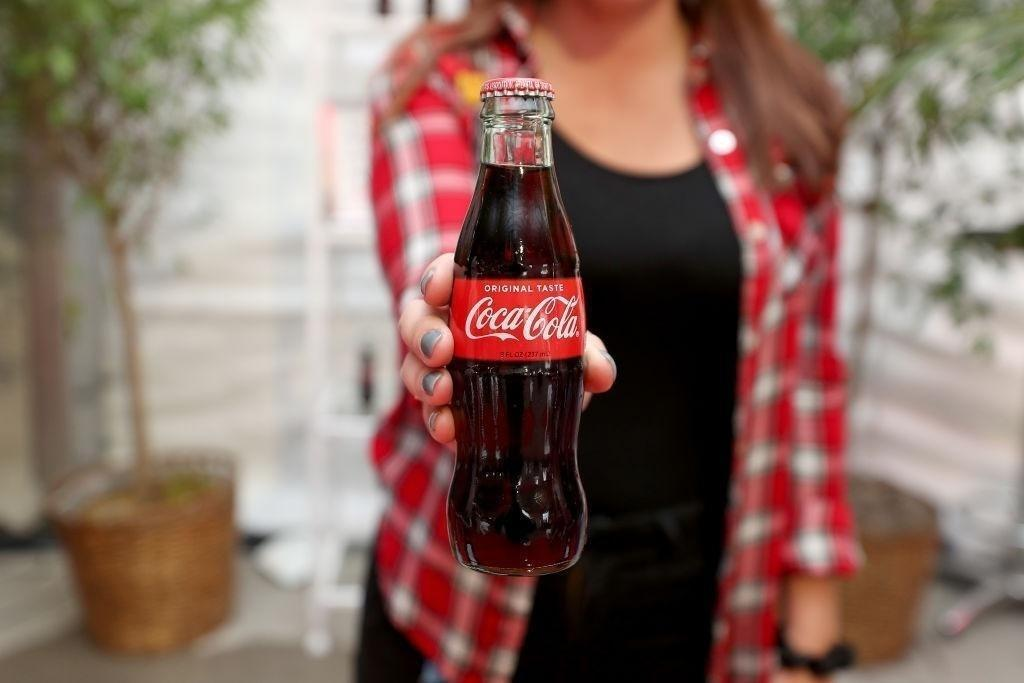bottle-glass: (441, 73, 590, 578)
